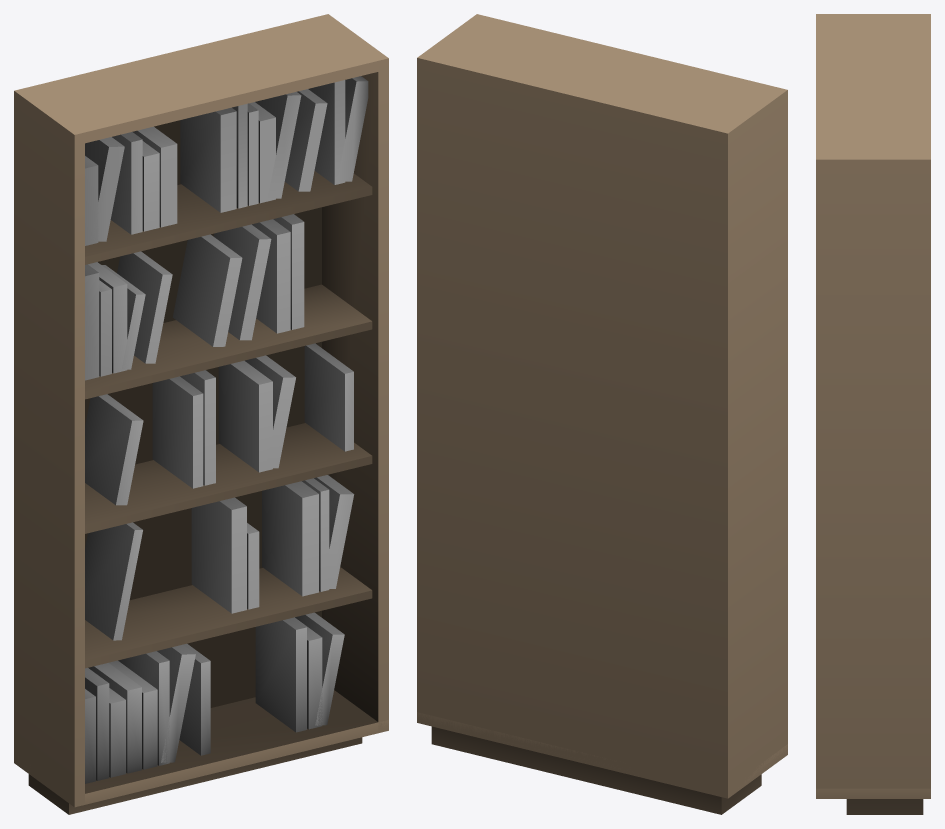
File: bookshelf.glb
3 views of the same model, side by side, from view 1: azimuth 30°, elevation 25°; view 2: azimuth 150°, elevation 25°; view 3: azimuth 270°, elevation 25° (orthographic). The views are drawn at different scales.
Parts seen in each view (by area): view 1: bookshelf; view 2: bookshelf; view 3: bookshelf.
Part boxes in pixels (bbox=[...]): bookshelf: bbox=[14, 14, 388, 814]; bookshelf: bbox=[417, 14, 787, 814]; bookshelf: bbox=[816, 14, 930, 814].
Size of the model in its own units: 0.9 by 1.9 by 0.3.
